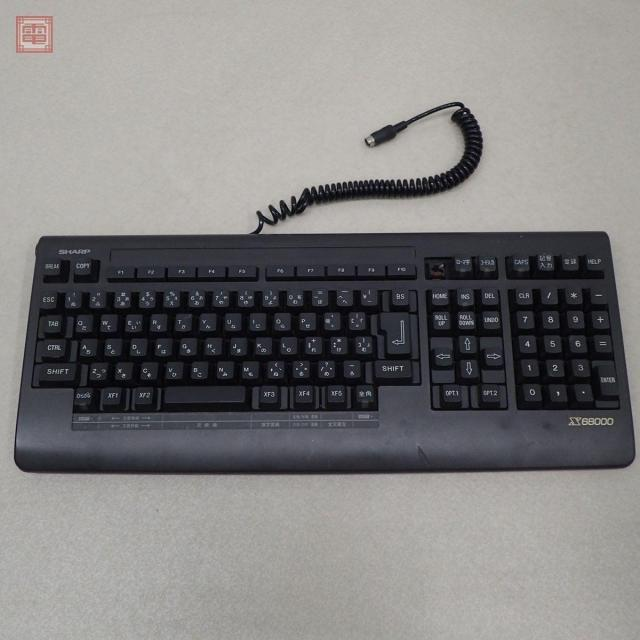keyboard: (13, 231, 638, 466)
